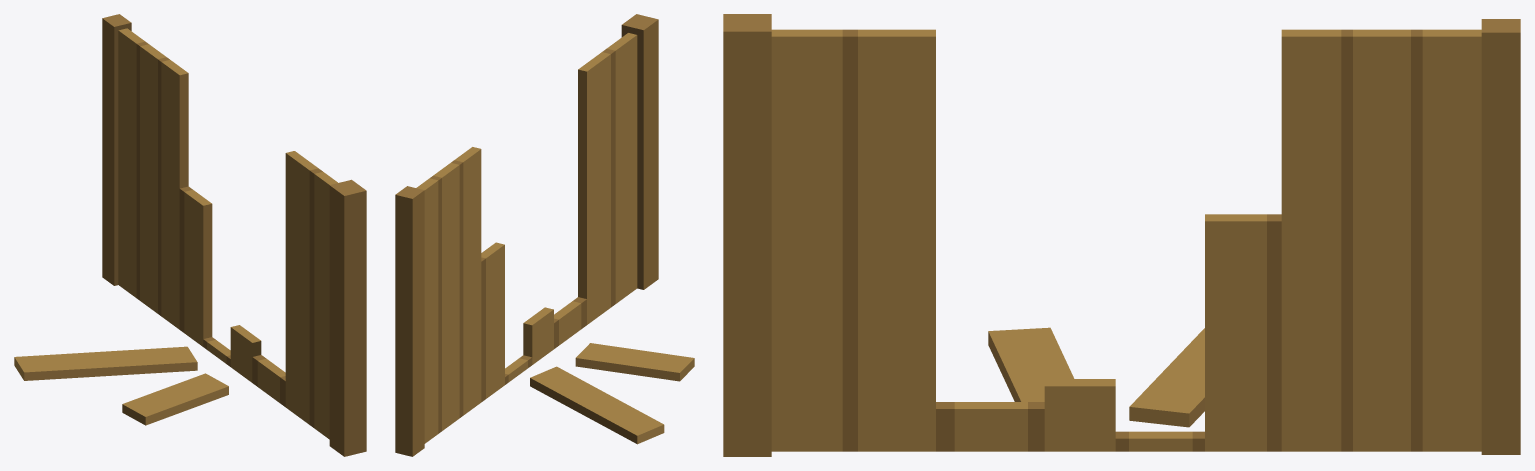
File: Fence_Wood_Damaged_01.fbx
3 views of the same model, side by side, from view 1: azimuth 30°, elevation 25°; view 2: azimuth 150°, elevation 25°; view 3: azimuth 270°, elevation 25° (orthographic). The views are drawn at different scales.
Parts seen in each view (by area): view 1: Fence_Wood_Damaged_01; view 2: Fence_Wood_Damaged_01; view 3: Fence_Wood_Damaged_01.
Part boxes in pixels (box(x1,y1,x2,y2)): Fence_Wood_Damaged_01: box(14, 14, 366, 456); Fence_Wood_Damaged_01: box(395, 14, 694, 456); Fence_Wood_Damaged_01: box(723, 14, 1520, 456).
Bounding box in the file's own units: 2.23 × 5.1 × 3.
